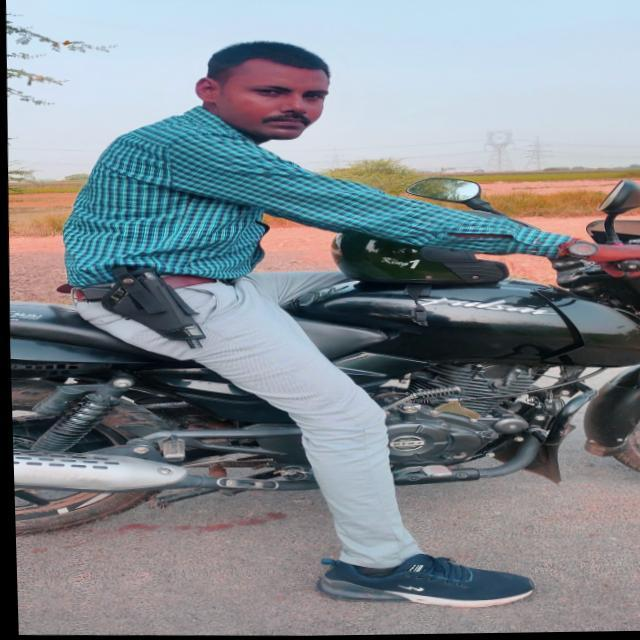weapon: (74, 266, 209, 354)
